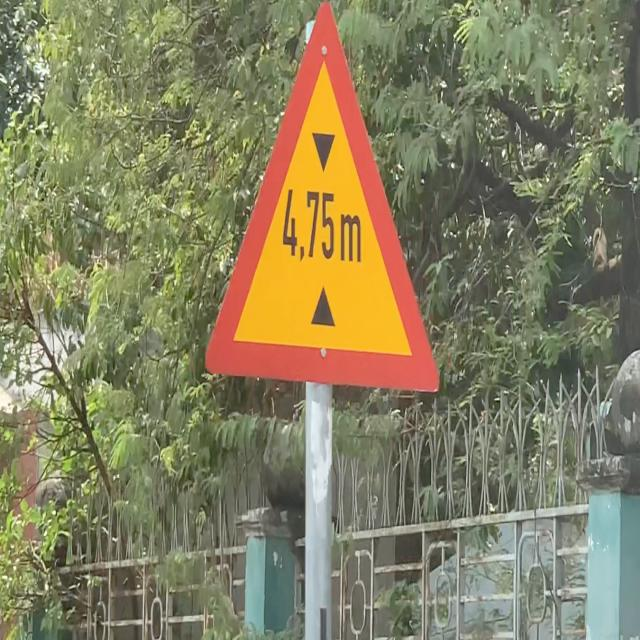Nguy hiem: (203, 0, 441, 394)
